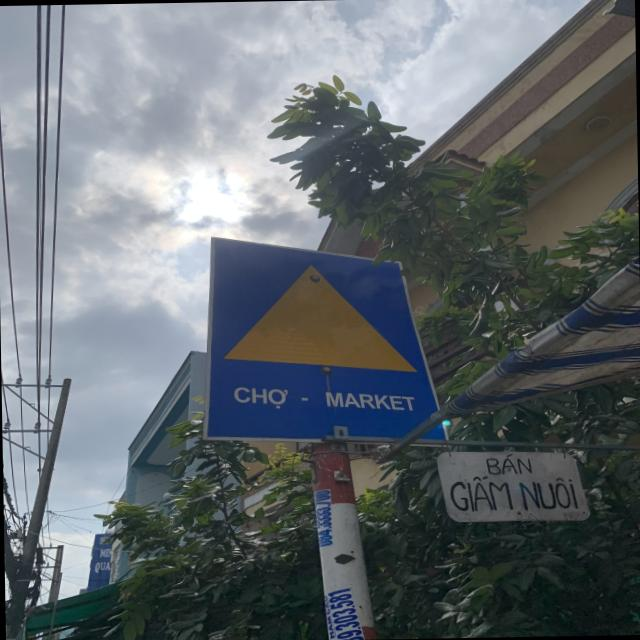Cho_Quay_Xe: (202, 232, 444, 440)
